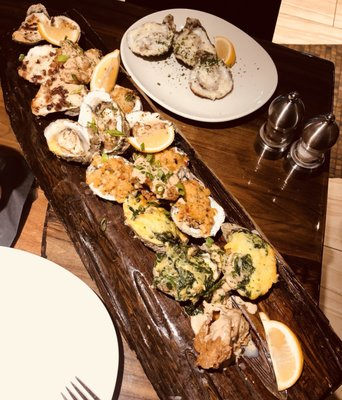burger: (60, 376, 103, 400)
